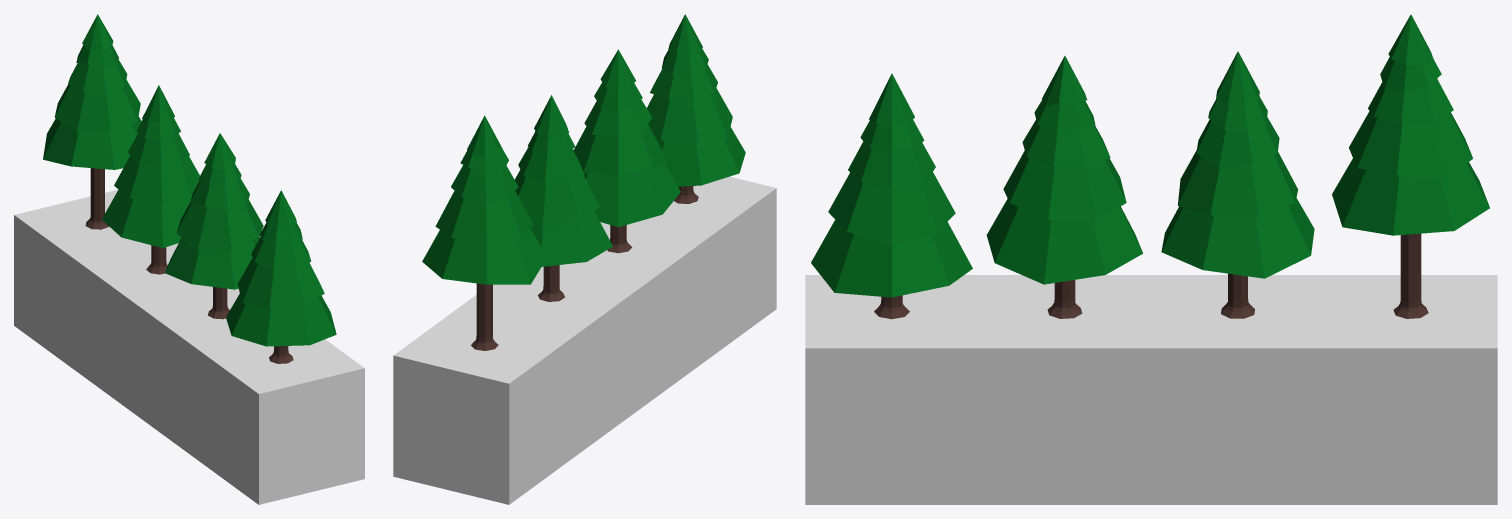
File: PineTrees.fbx
3 views of the same model, side by side, from view 1: azimuth 30°, elevation 25°; view 2: azimuth 150°, elevation 25°; view 3: azimuth 270°, elevation 25° (orthographic). The views are drawn at different scales.
Parts seen in each view (by area): view 1: Cube, Cube.003, Cube.002, Cube.001, PineTree3, PineTree0, PineTree1, PineTree2; view 2: Cube.003, Cube.002, PineTree3, Cube.001, Cube, PineTree2, PineTree0, PineTree1; view 3: Cube.003, Cube.002, Cube.001, Cube, PineTree3, PineTree2, PineTree1, PineTree0.
Part boxes in pixels (x1,y1,x2,y2): Cube: (197, 339, 364, 504); Cube.003: (14, 189, 142, 370); Cube.002: (75, 243, 209, 415); Cube.001: (136, 286, 240, 459); PineTree3: (43, 14, 141, 229); PineTree0: (226, 190, 336, 363); PineTree1: (102, 85, 199, 274); PineTree2: (165, 133, 263, 319); Cube.003: (393, 306, 575, 504); Cube.002: (460, 266, 642, 455); PineTree3: (422, 115, 547, 350); Cube.001: (559, 220, 709, 406); Cube: (642, 176, 776, 357); PineTree2: (573, 49, 680, 253); PineTree0: (647, 14, 745, 203); PineTree1: (514, 95, 612, 301); Cube.003: (1324, 275, 1497, 504); Cube.002: (1151, 275, 1324, 504); Cube.001: (978, 275, 1151, 504); Cube: (805, 275, 978, 504); PineTree3: (1332, 14, 1489, 318); PineTree2: (986, 56, 1142, 318); PineTree1: (1161, 51, 1314, 318); PineTree0: (811, 73, 972, 319).
Size of the model in its own units: 200 by 580 by 800.
1 material, 1 textured.
